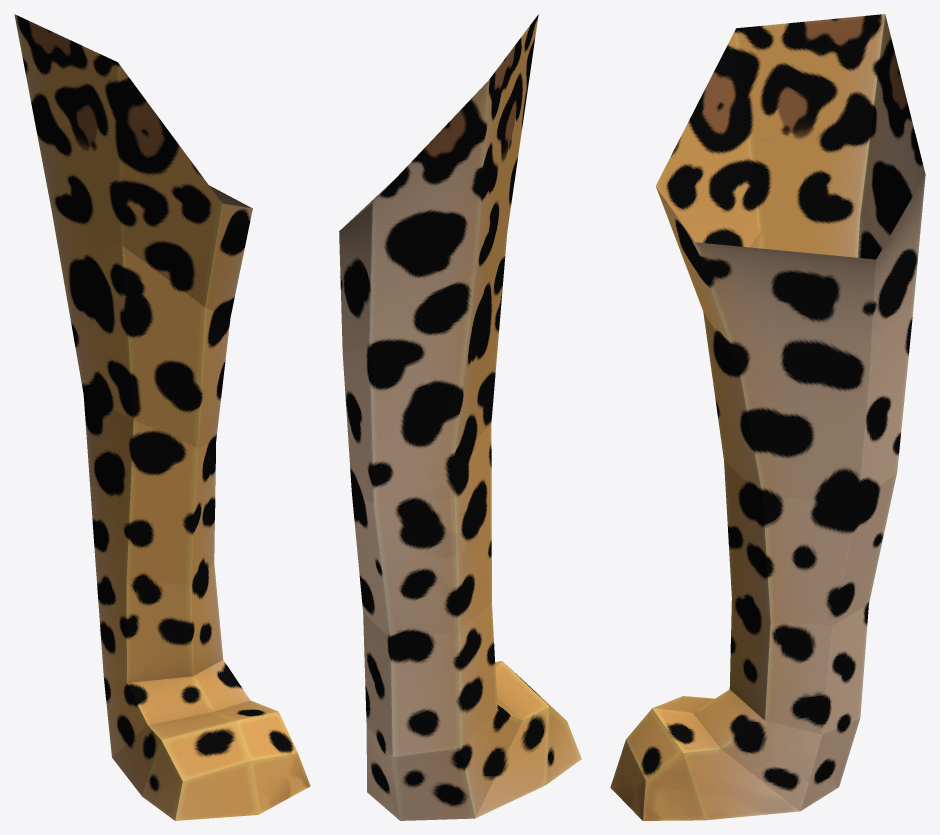
File: PataFDer.fbx
The picture shows the model from 3 angles, left to right: view 1: azimuth 30°, elevation 25°; view 2: azimuth 150°, elevation 25°; view 3: azimuth 270°, elevation 25°; orthographic projection. The views are drawn at different scales.
Parts seen in each view (by area): view 1: Jaguar.001; view 2: Jaguar.001; view 3: Jaguar.001.
Part boxes in pixels (box(x1,y1,x2,y2)): Jaguar.001: box(14, 14, 310, 820); Jaguar.001: box(339, 14, 581, 820); Jaguar.001: box(610, 14, 925, 820).
Size of the model in its own units: 102 by 407 by 161.
